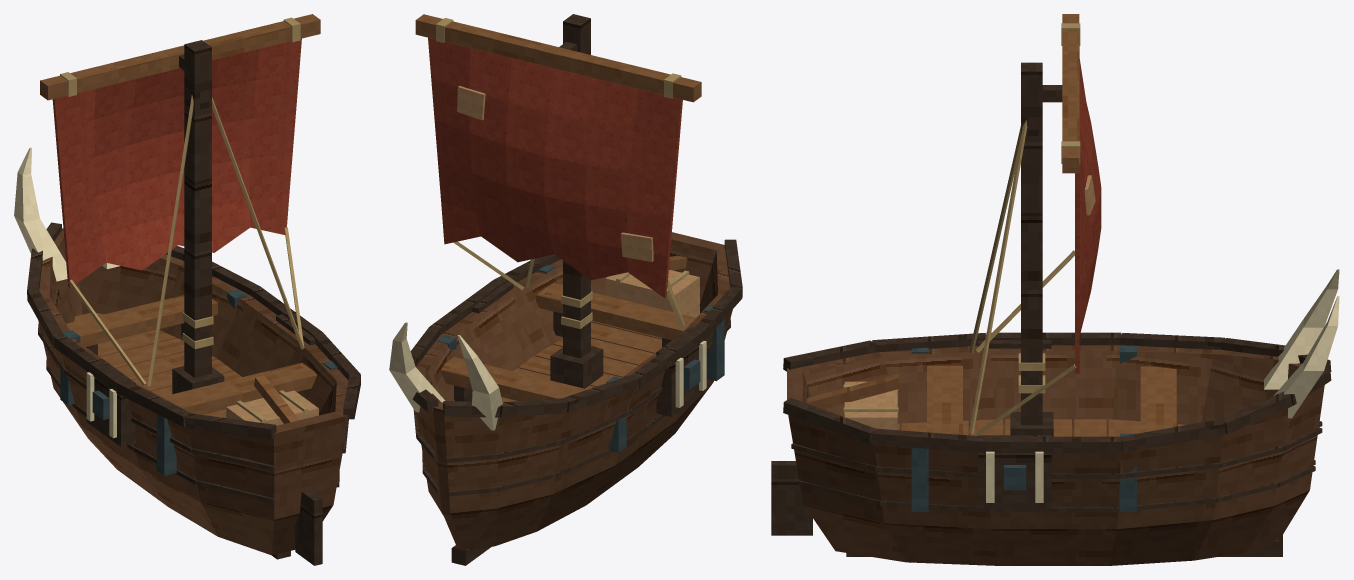
Rendered from orc_embark_boat_v1.glb.
3 views of the same model, side by side, from view 1: azimuth 30°, elevation 25°; view 2: azimuth 150°, elevation 25°; view 3: azimuth 270°, elevation 25° (orthographic). The views are drawn at different scales.
Visible parts, largest first — view 1: Hull, Sail, Rig, Deck, Details; view 2: Hull, Sail, Rig, Deck, Details; view 3: Hull, Rig, Deck, Details, Sail.
Part boxes in pixels (x1,y1,x2,y2): Hull: (14,147,360,559); Sail: (52,38,301,287); Rig: (40,14,322,565); Deck: (66,295,318,425); Details: (86,314,315,446); Hull: (389,232,742,565); Sail: (428,37,682,297); Rig: (415,14,701,388); Deck: (441,270,699,402); Details: (472,282,706,416); Hull: (783,269,1339,565); Rig: (771,14,1080,535); Deck: (843,365,1185,436); Details: (978,340,1051,508); Sail: (1075,45,1101,373).
Size of the model in its own units: 1.8 by 2.84 by 3.
1 material, 1 textured.
